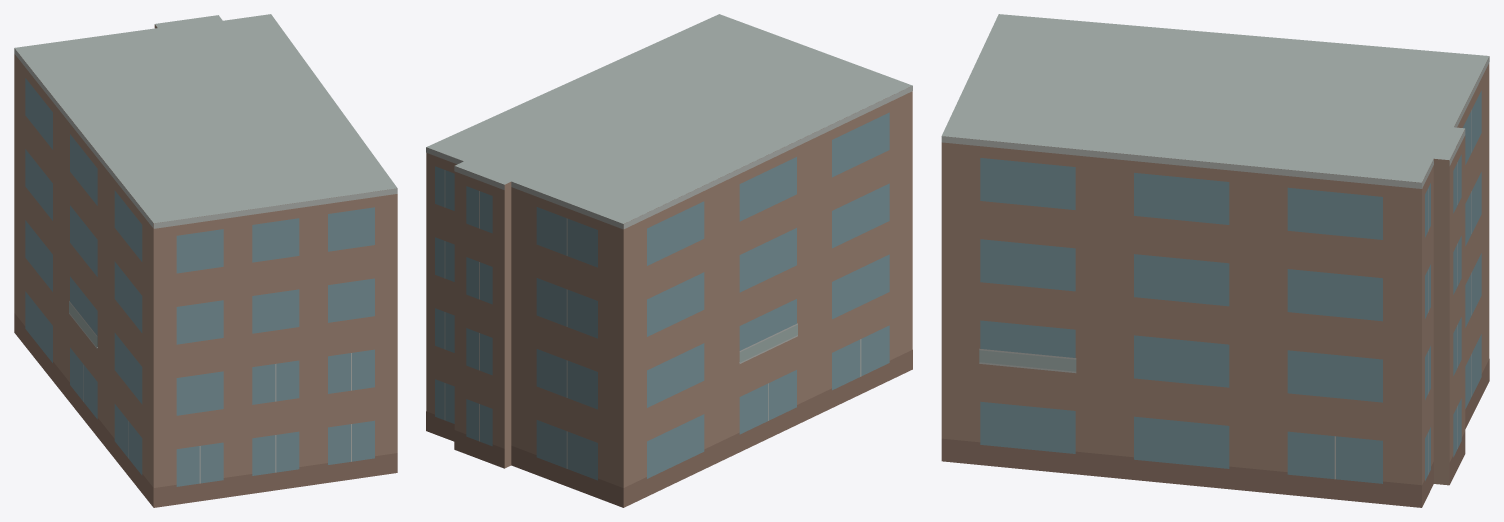
Rendered from survey-upis-32803343.glb.
3 renders of one model, left to right at view 1: azimuth 30°, elevation 25°; view 2: azimuth 150°, elevation 25°; view 3: azimuth 270°, elevation 25°, orthographic. The views are drawn at different scales.
Parts seen in each view (by area): view 1: survey-upis-32803343.tmp; view 2: survey-upis-32803343.tmp; view 3: survey-upis-32803343.tmp.
Boxes of the visible parts, box(x1,y1,x2,y2) form: survey-upis-32803343.tmp: box(14, 14, 397, 507); survey-upis-32803343.tmp: box(426, 14, 912, 507); survey-upis-32803343.tmp: box(941, 14, 1489, 507).
Size of the model in its own units: 13.92 by 12.5 by 19.1.
